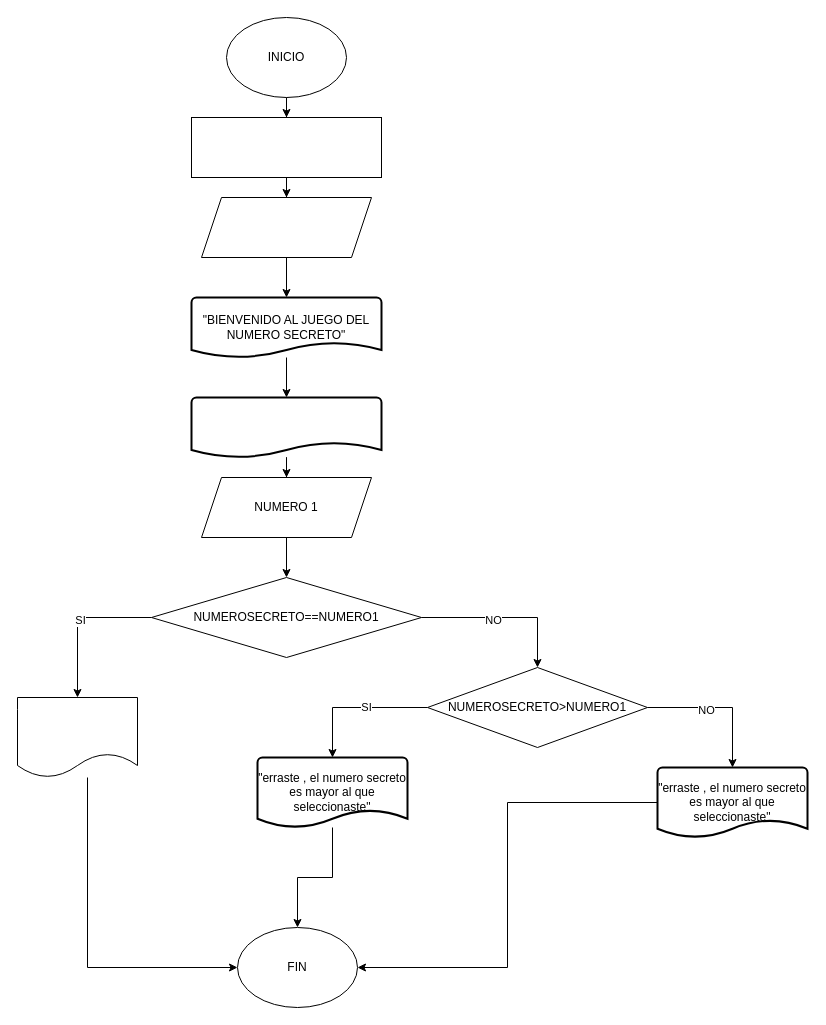
Some shapes in this 826 by 1025 pixel diagram are drawn without their labels. Here are the shapes that lost their labels. From the top down, the centre of each, then its label:
point (286, 147): NUMERO1,NUMEROSECRETO
point (286, 227): NUMEROSECRETO=7
point (286, 427): "INGRESE EL NUMERO CON EL QUE JUGARA EL JUEGO (1 AL 10)"
point (77, 737): "FELICIDADES ATINASTE AL NUMERO", NUMERO SECRETO
